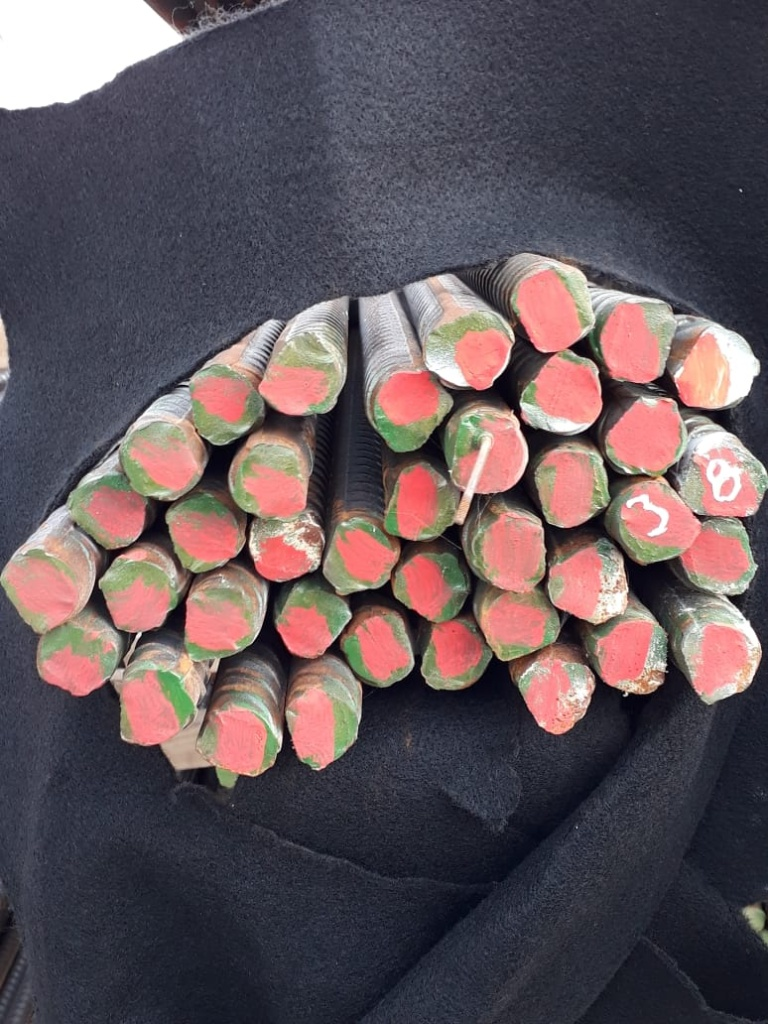dipstick: (676, 324, 764, 411), (423, 311, 515, 393), (516, 350, 604, 434), (511, 264, 596, 350), (121, 420, 209, 502), (258, 331, 343, 415), (371, 368, 455, 452), (549, 538, 629, 626), (617, 483, 702, 565), (681, 439, 768, 518), (4, 548, 81, 635), (600, 299, 677, 385), (682, 621, 762, 703), (450, 413, 530, 494), (323, 516, 400, 598), (229, 442, 308, 521), (535, 447, 611, 529), (36, 623, 119, 698), (287, 688, 360, 773), (606, 396, 687, 472), (385, 460, 462, 539), (188, 364, 264, 444), (247, 506, 325, 583), (68, 475, 148, 550), (118, 669, 196, 745), (276, 581, 351, 660), (683, 517, 757, 597), (482, 589, 561, 663), (164, 499, 246, 570), (182, 585, 257, 662), (98, 559, 177, 632), (520, 661, 596, 736), (202, 706, 281, 778), (475, 512, 546, 591), (342, 611, 414, 688), (393, 553, 470, 622), (598, 620, 667, 696), (420, 622, 493, 692)
